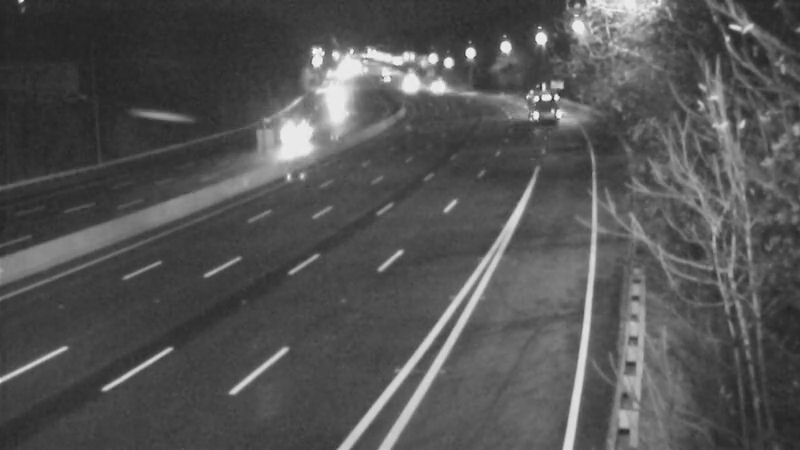vehicle: (360, 45, 410, 95), (385, 54, 435, 104), (411, 62, 461, 112), (519, 77, 569, 127), (267, 105, 317, 155), (308, 72, 358, 122)
